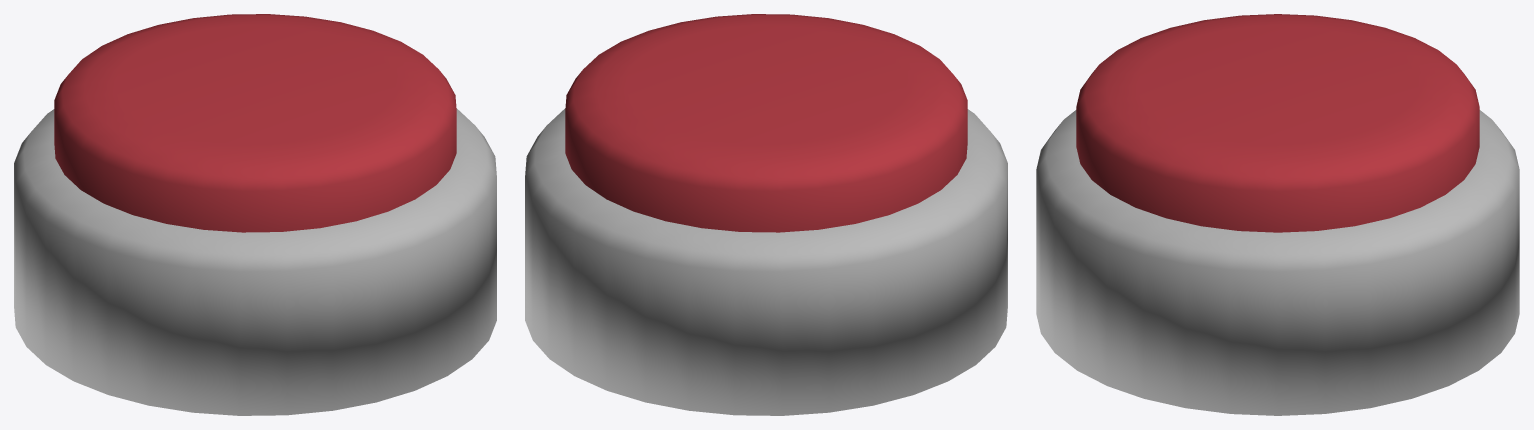
The model's file is button.fbx.
3 renders of one model, left to right at view 1: azimuth 30°, elevation 25°; view 2: azimuth 150°, elevation 25°; view 3: azimuth 270°, elevation 25°, orthographic.
Parts seen in each view (by area): view 1: Cylinder.001, Cylinder; view 2: Cylinder.001, Cylinder; view 3: Cylinder.001, Cylinder.
Boxes of the visible parts, <box> form: Cylinder.001: <box>14,108,496,415</box>; Cylinder: <box>54,14,456,232</box>; Cylinder.001: <box>525,108,1007,415</box>; Cylinder: <box>565,14,967,232</box>; Cylinder.001: <box>1036,110,1519,415</box>; Cylinder: <box>1076,14,1479,232</box>.
Size of the model in its own units: 9.26 by 4.83 by 9.26.
